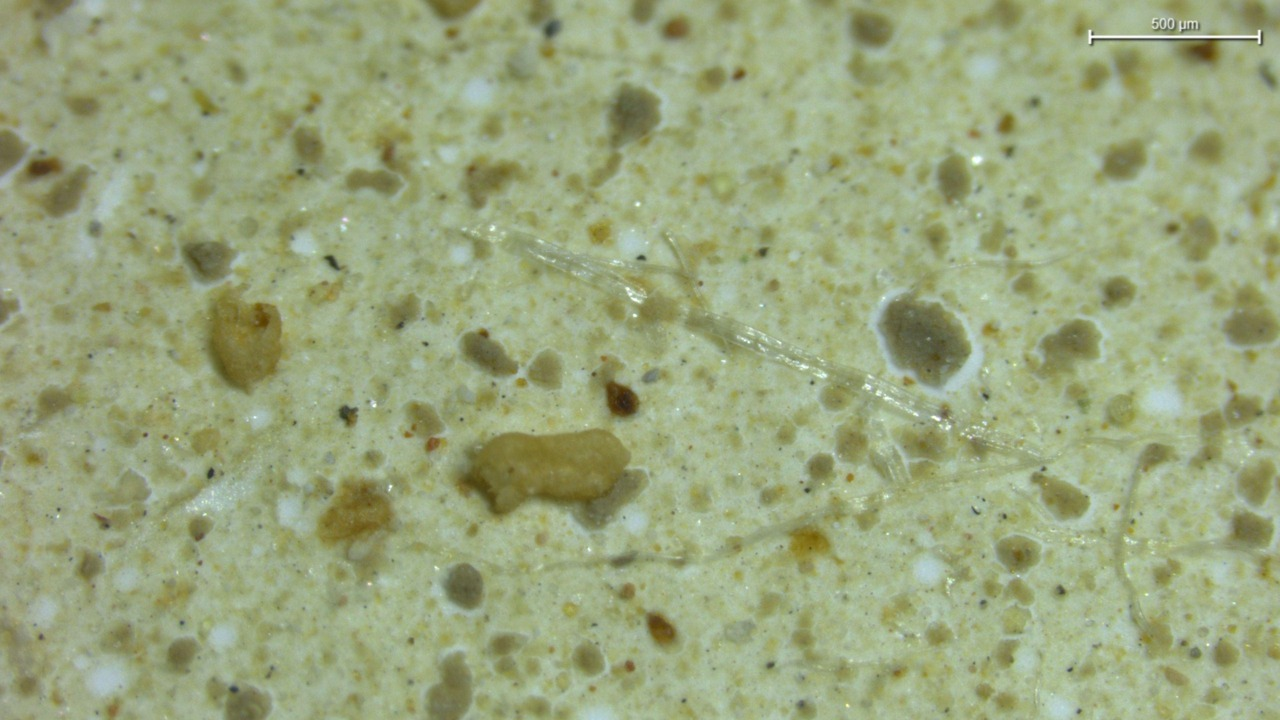microplastic_fragment: (472, 429, 629, 512), (209, 286, 282, 392)
